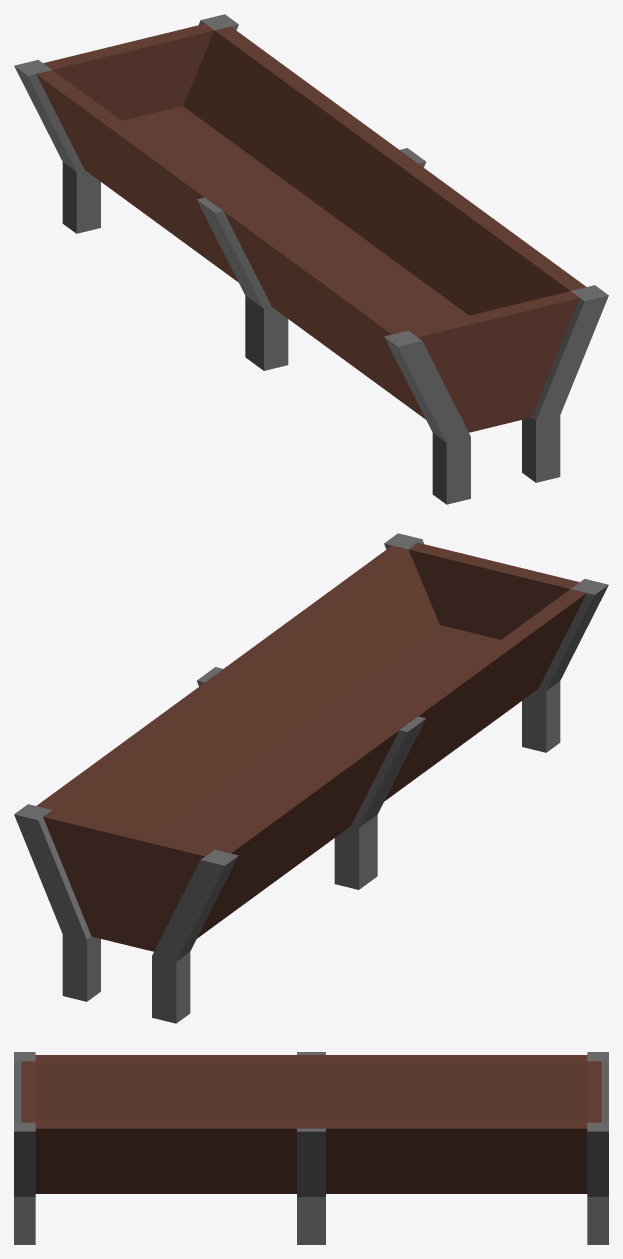
The model's file is Farmi_EläinJuomaAstia.fbx.
3 renders of one model, top to bottom at view 1: azimuth 30°, elevation 25°; view 2: azimuth 150°, elevation 25°; view 3: azimuth 270°, elevation 25°, orthographic. The views are drawn at different scales.
Visible parts, largest first — view 1: Eläin Juoma Astia; view 2: Eläin Juoma Astia; view 3: Eläin Juoma Astia.
Part boxes in pixels (x1,y1,x2,y2): Eläin Juoma Astia: (14,14,608,504); Eläin Juoma Astia: (14,533,608,1023); Eläin Juoma Astia: (14,1052,608,1244).
Bounding box in the file's own units: 65 × 49.99 × 205.
